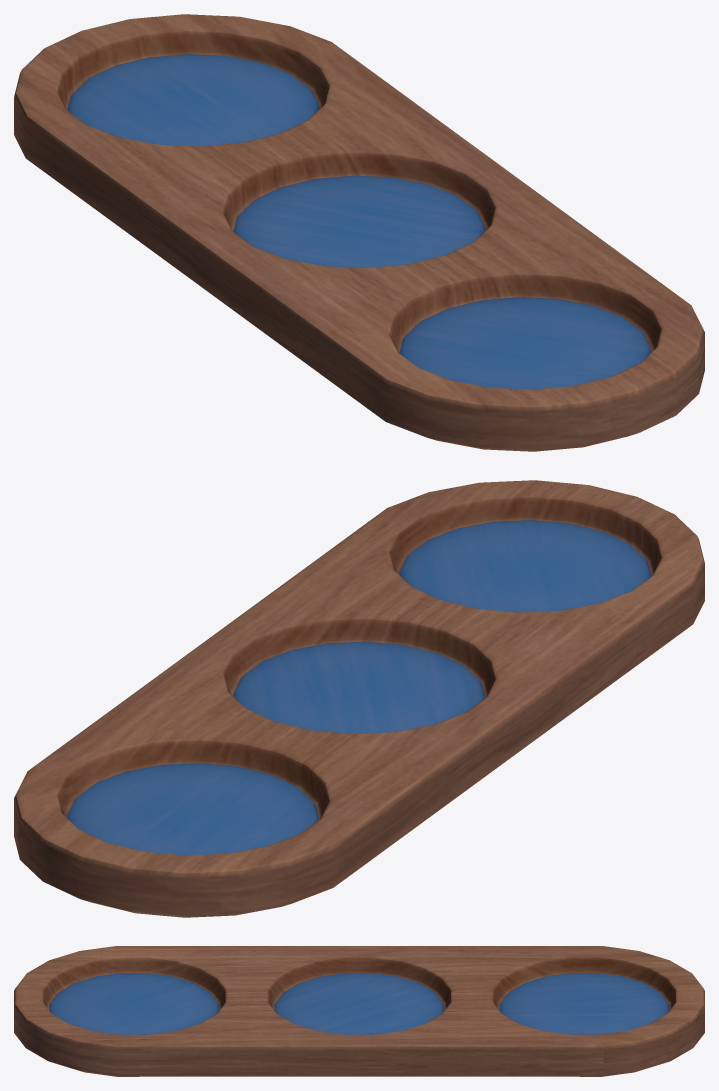
The model's file is YutNori_PieceBoxBlue.fbx.
The picture shows the model from 3 angles, top to bottom: view 1: azimuth 30°, elevation 25°; view 2: azimuth 150°, elevation 25°; view 3: azimuth 270°, elevation 25°; orthographic projection. The views are drawn at different scales.
Visible parts, largest first — view 1: YutNori_PieceBoxBlue; view 2: YutNori_PieceBoxBlue; view 3: YutNori_PieceBoxBlue.
Boxes of the visible parts, x1,y1,x2,y2 form: YutNori_PieceBoxBlue: [14, 14, 704, 451]; YutNori_PieceBoxBlue: [14, 480, 704, 917]; YutNori_PieceBoxBlue: [14, 946, 704, 1076].
Bounding box in the file's own units: 3.98 × 0.6524 × 11.43.
